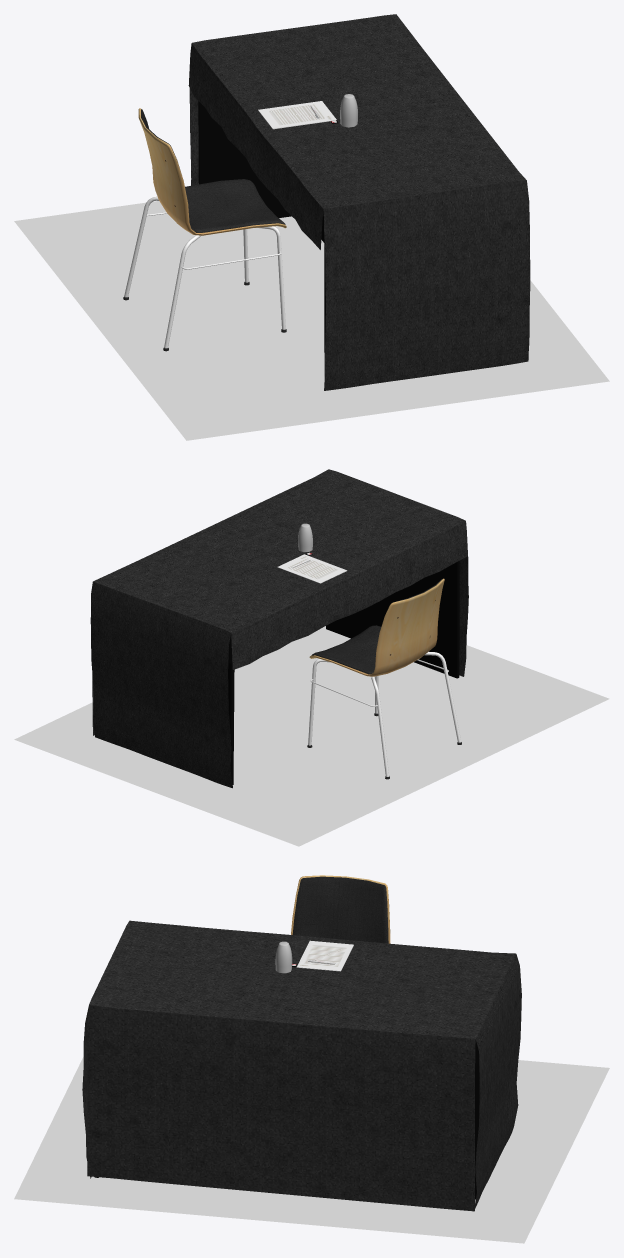
File: DeskFront.fbx
3 views of the same model, one above another, from view 1: azimuth 30°, elevation 25°; view 2: azimuth 150°, elevation 25°; view 3: azimuth 270°, elevation 25° (orthographic). The views are drawn at different scales.
Parts seen in each view (by area): view 1: Desk_Set_Front; view 2: Desk_Set_Front; view 3: Desk_Set_Front.
Boxes of the visible parts, x1=… form: Desk_Set_Front: x1=14, y1=14, x2=609, y2=440; Desk_Set_Front: x1=14, y1=469, x2=609, y2=846; Desk_Set_Front: x1=14, y1=875, x2=609, y2=1243.
Size of the model in its own units: 2.39 by 1.03 by 2.74.
